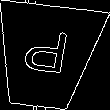P_S: (20, 29, 73, 84)
